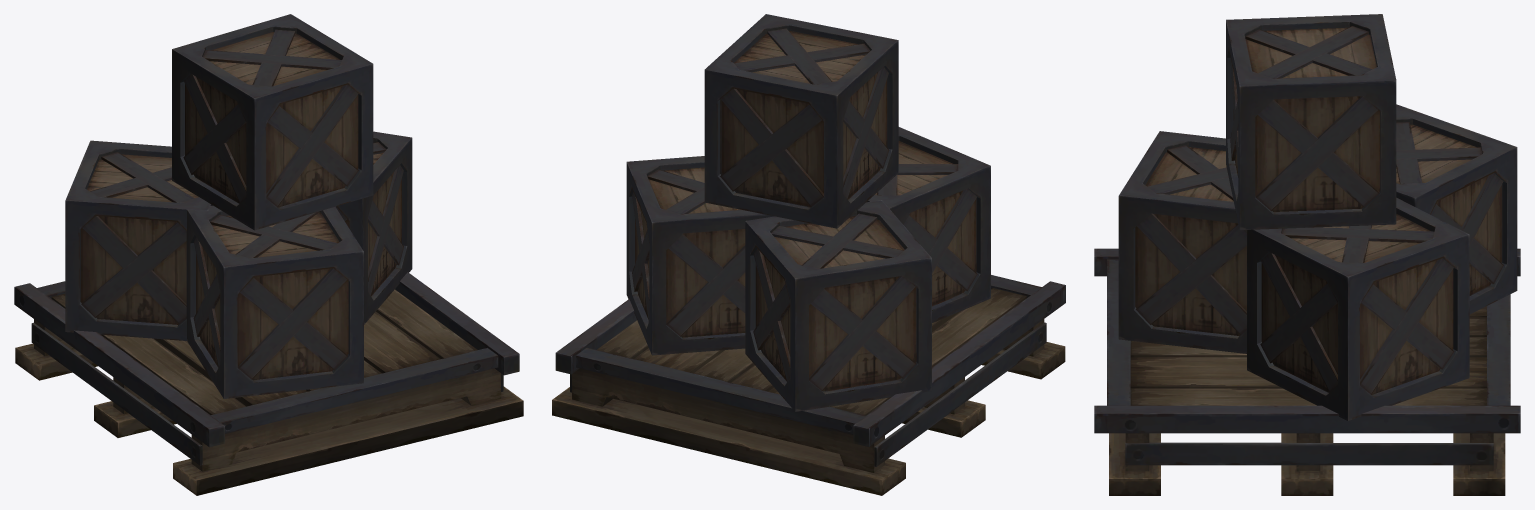
Rendered from AHBoxL3.FBX.
3 renders of one model, left to right at view 1: azimuth 30°, elevation 25°; view 2: azimuth 150°, elevation 25°; view 3: azimuth 270°, elevation 25°, orthographic. The views are drawn at different scales.
Parts seen in each view (by area): view 1: AHBoxL3; view 2: AHBoxL3; view 3: AHBoxL3.
Boxes of the visible parts, x1,y1,x2,y2 form: AHBoxL3: (14, 14, 523, 495); AHBoxL3: (552, 14, 1065, 495); AHBoxL3: (1094, 14, 1520, 495).
Bounding box in the file's own units: 1.9 × 1.83 × 1.96.
1 material, 1 textured.
